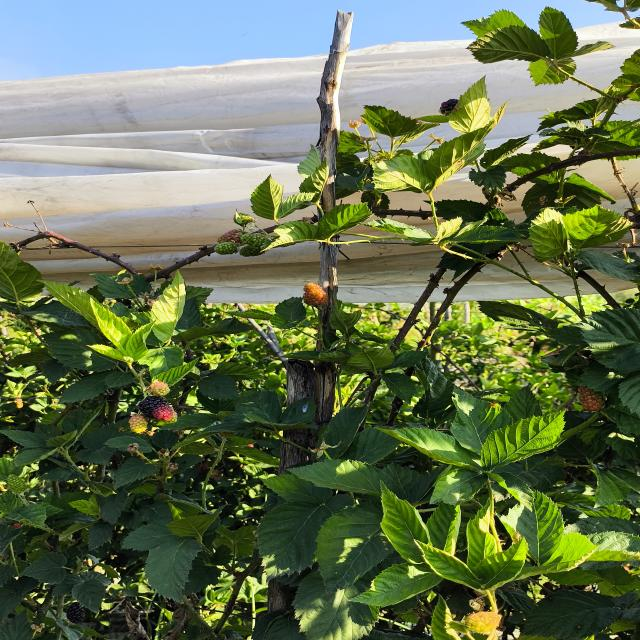marron: (139, 396, 174, 421)
naranja: (578, 386, 604, 411), (303, 283, 327, 306), (218, 229, 242, 243)
verde: (240, 233, 265, 249), (129, 414, 148, 433), (149, 380, 170, 396), (215, 241, 238, 255)
